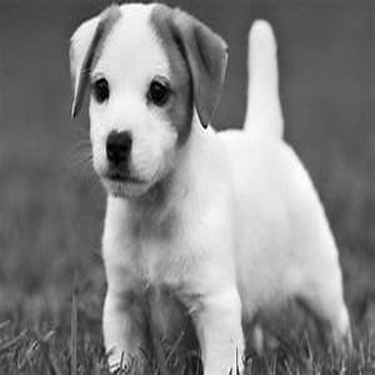dog: (56, 2, 360, 372)
